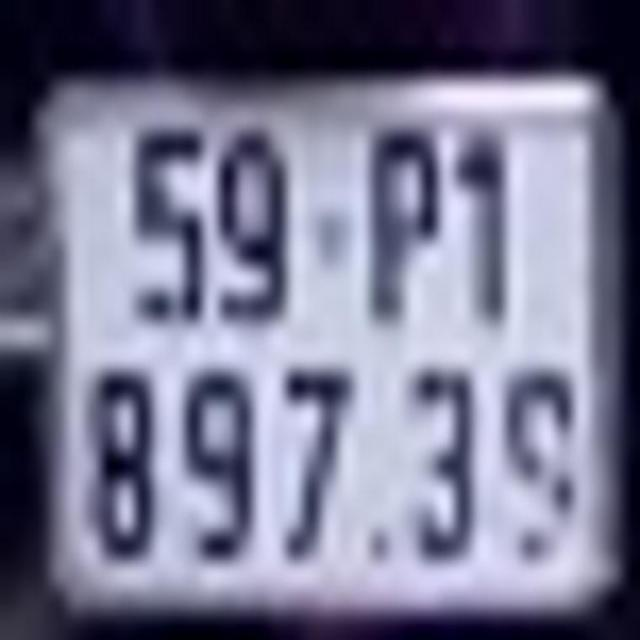1: (454, 115, 510, 327)
3: (398, 358, 477, 566)
5: (129, 122, 206, 321)
7: (275, 364, 359, 566)
8: (87, 360, 165, 578)
9: (492, 354, 576, 569), (212, 114, 293, 329), (184, 361, 252, 560)
P: (364, 122, 446, 337)
